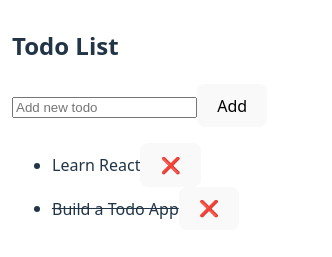
TodoList Component › adds a new todo
Type "Write tests" into the field with placeholder "Add new todo" at (104, 107), box [12,97,197,118]
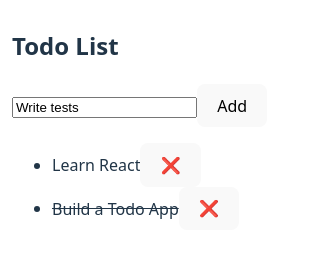
Click the button "Add" at (232, 106), box [197,84,267,127]
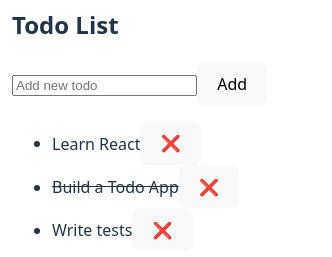
Expected: the list item "Write tests" is shown, [52,219,132,241]
